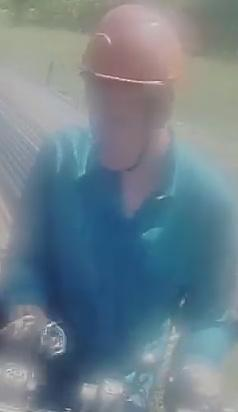gloves: (0, 294, 67, 379), (169, 350, 233, 412)
helmet: (72, 0, 187, 86)
vest: (22, 133, 202, 366)
